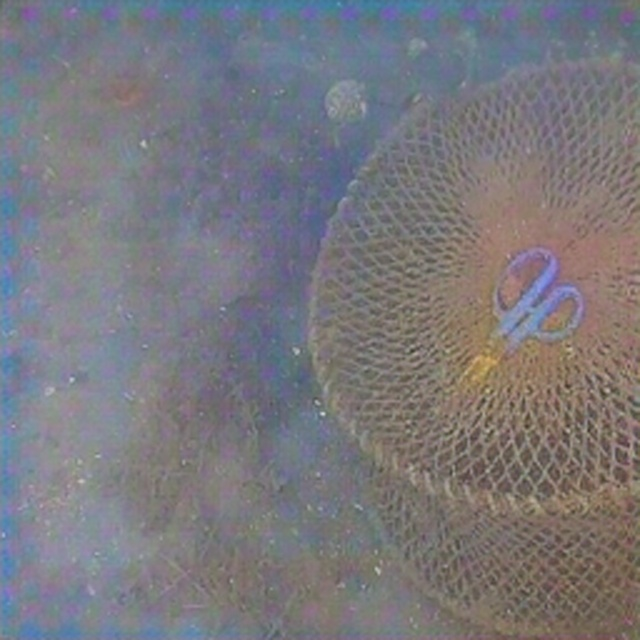mine: (308, 56, 640, 639)
